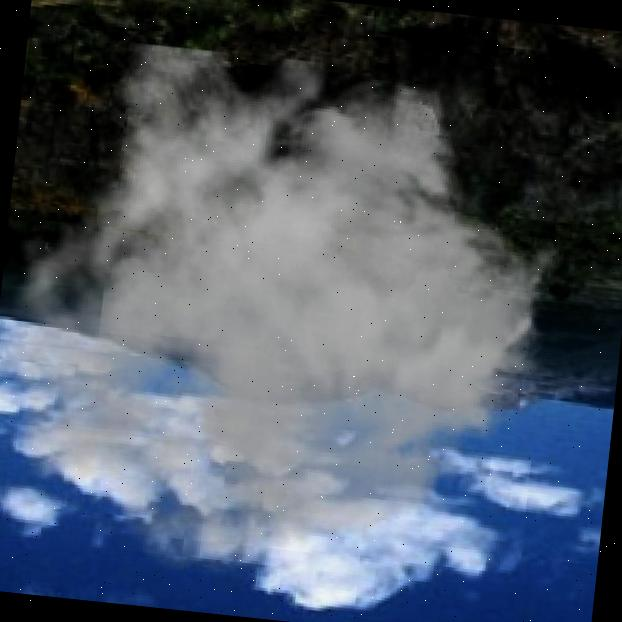smoke: (0, 31, 584, 609)
